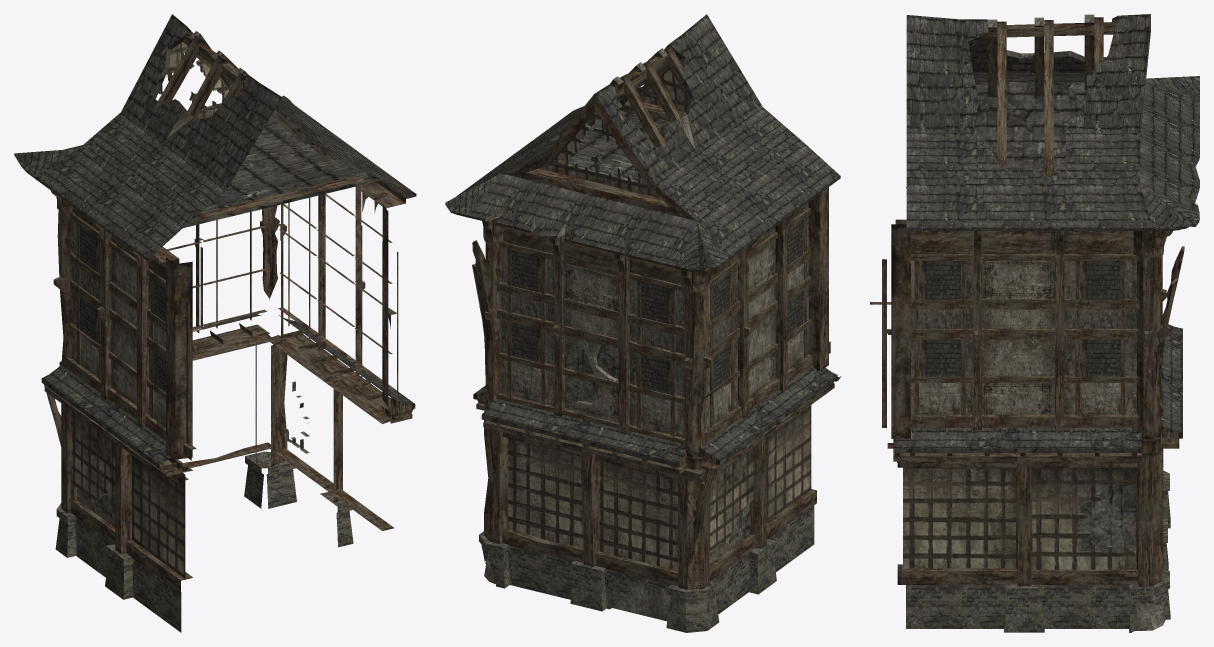
The model's file is TW2_9_HOUSE_05_03-transformed.glb.
3 renders of one model, left to right at view 1: azimuth 30°, elevation 25°; view 2: azimuth 150°, elevation 25°; view 3: azimuth 270°, elevation 25°, orthographic. The views are drawn at different scales.
Visible parts, largest first — view 1: default; view 2: default; view 3: default.
Boxes of the visible parts, left/top/right/bottom form: default: left=14, top=14, right=416, bottom=632; default: left=445, top=14, right=841, bottom=632; default: left=870, top=14, right=1199, bottom=632.
Size of the model in its own units: 10.52 by 19.08 by 10.21.
Materials: 1 (1 with a texture image).
